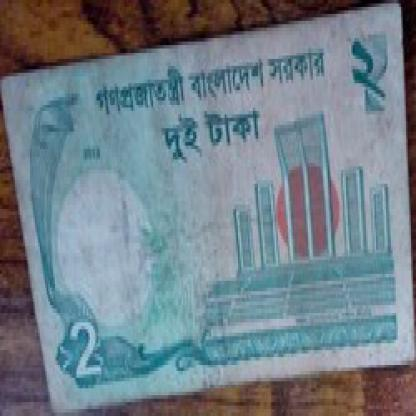two taka: (340, 28, 384, 114), (65, 312, 110, 392)
